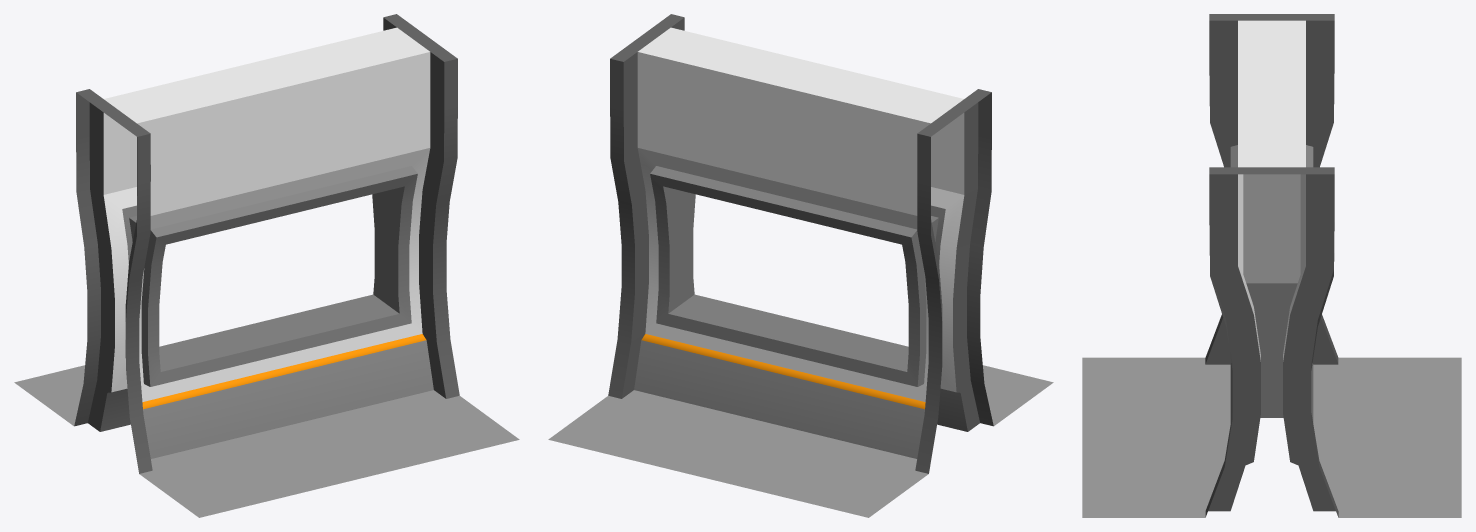
Rendered from SM_InteriorWindowWall_01.fbx.
The picture shows the model from 3 angles, left to right: view 1: azimuth 30°, elevation 25°; view 2: azimuth 150°, elevation 25°; view 3: azimuth 270°, elevation 25°; orthographic projection. The views are drawn at different scales.
Visible parts, largest first — view 1: SM_InteriorWindowWall_01; view 2: SM_InteriorWindowWall_01; view 3: SM_InteriorWindowWall_01.
Boxes of the visible parts, <box> form: SM_InteriorWindowWall_01: <box>14,14,519,517</box>; SM_InteriorWindowWall_01: <box>548,14,1053,517</box>; SM_InteriorWindowWall_01: <box>1082,14,1461,517</box>.
Size of the model in its own units: 200 by 200 by 200.
Materials: 1 (1 with a texture image).
